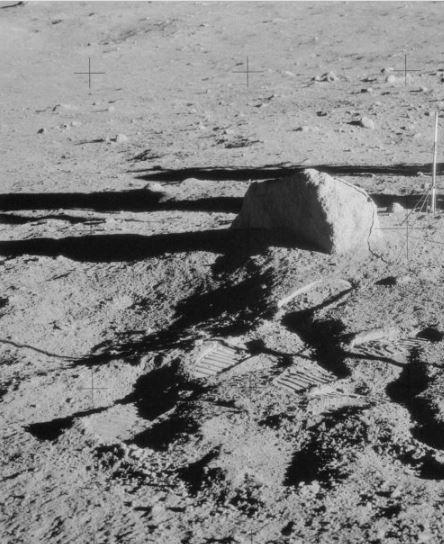rock: (233, 169, 380, 256)
